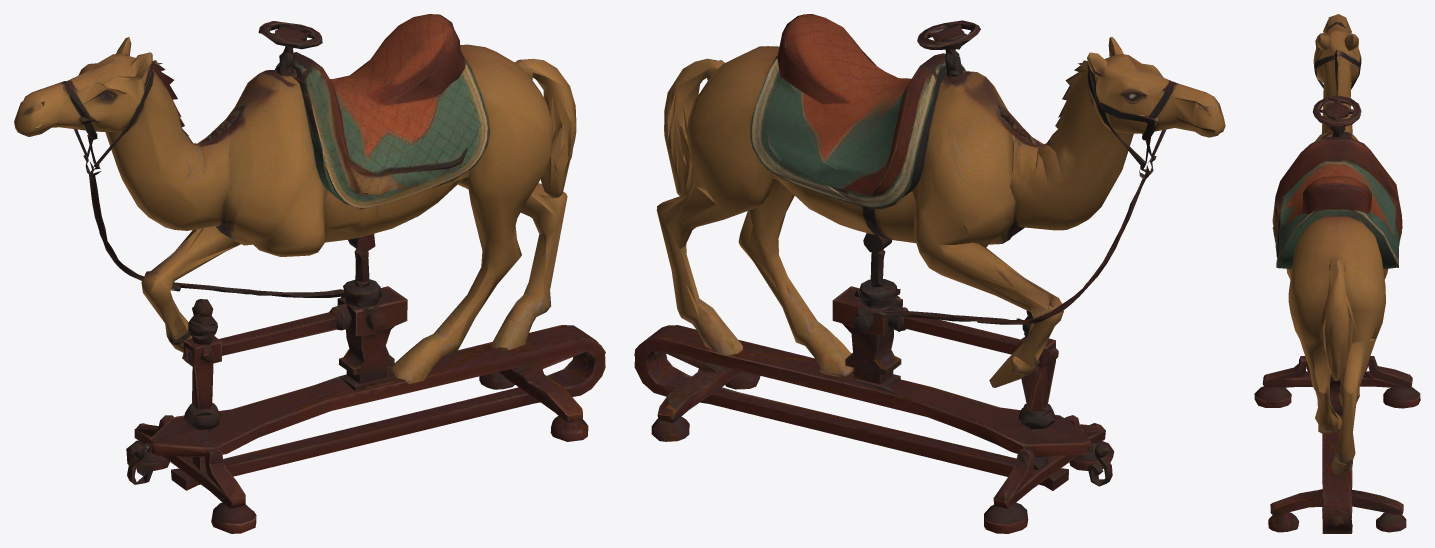
Rendered from mj-gym-electric-camel.glb.
The picture shows the model from 3 angles, left to right: view 1: azimuth 30°, elevation 25°; view 2: azimuth 150°, elevation 25°; view 3: azimuth 270°, elevation 25°; orthographic projection. The views are drawn at different scales.
Visible parts, largest first — view 1: mj-gym-electric-camel; view 2: mj-gym-electric-camel; view 3: mj-gym-electric-camel.
Part boxes in pixels (left/top/right/bottom): mj-gym-electric-camel: left=14, top=14, right=605, bottom=533; mj-gym-electric-camel: left=634, top=14, right=1225, bottom=533; mj-gym-electric-camel: left=1254, top=14, right=1420, bottom=533.
Size of the model in its own units: 1.74 by 1.3 by 0.5625.
Materials: 1 (1 with a texture image).
